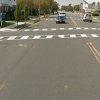Crosswalk: (5, 24, 95, 48)
